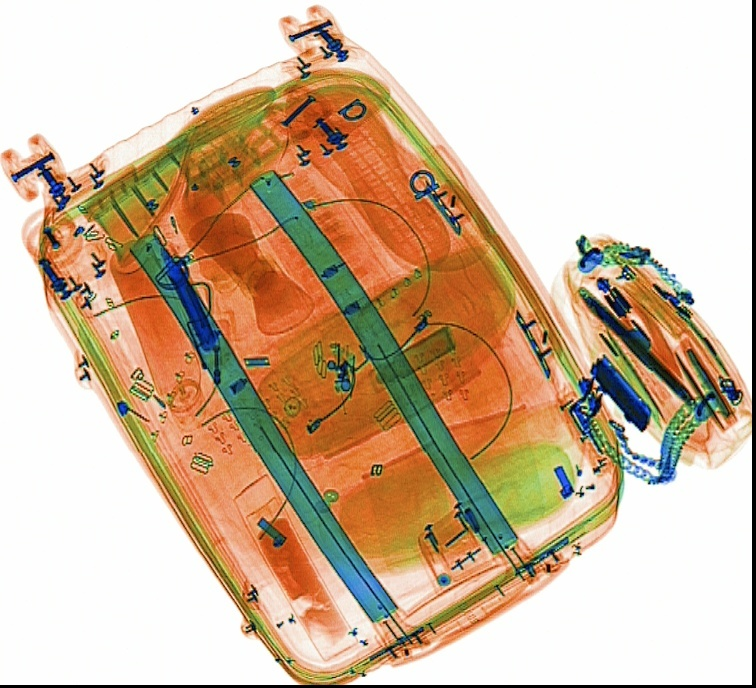pressure: (106, 238, 212, 431)
